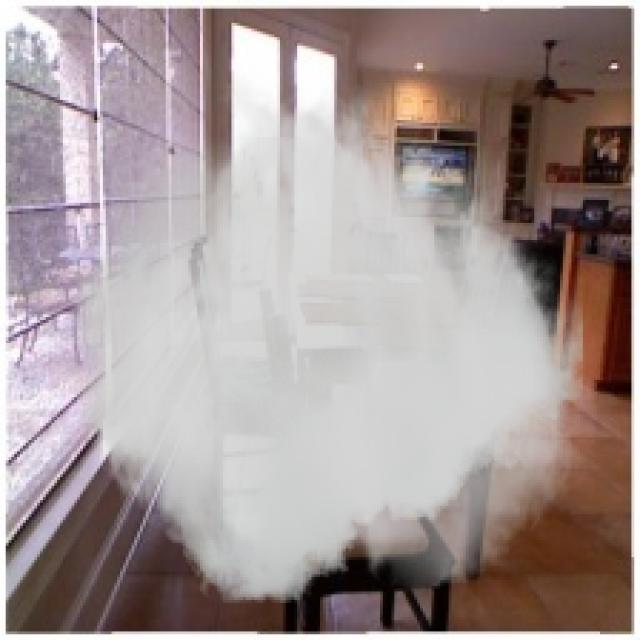smoke: (66, 71, 583, 603)
